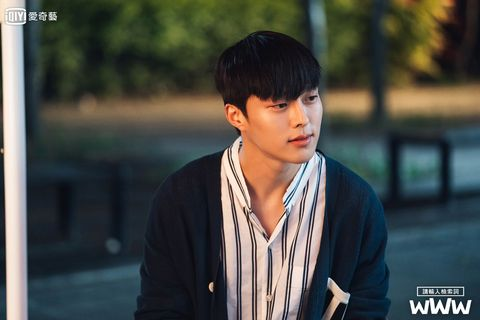people: (187, 33, 383, 320)
